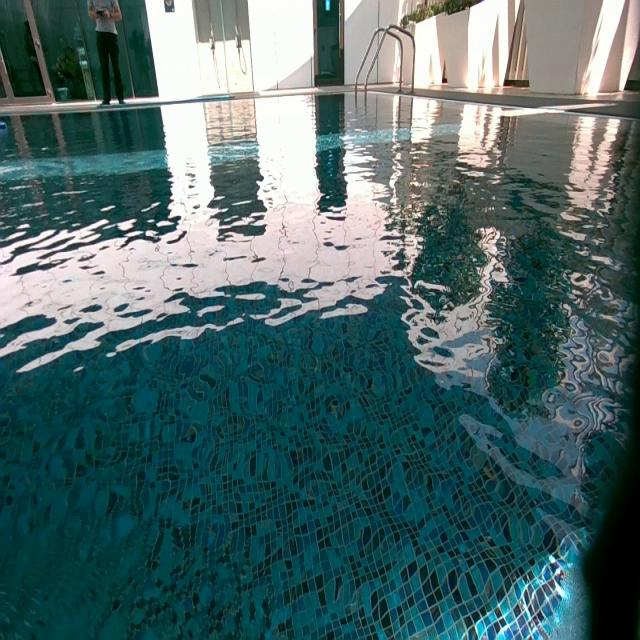Cans: (0, 120, 8, 129)
